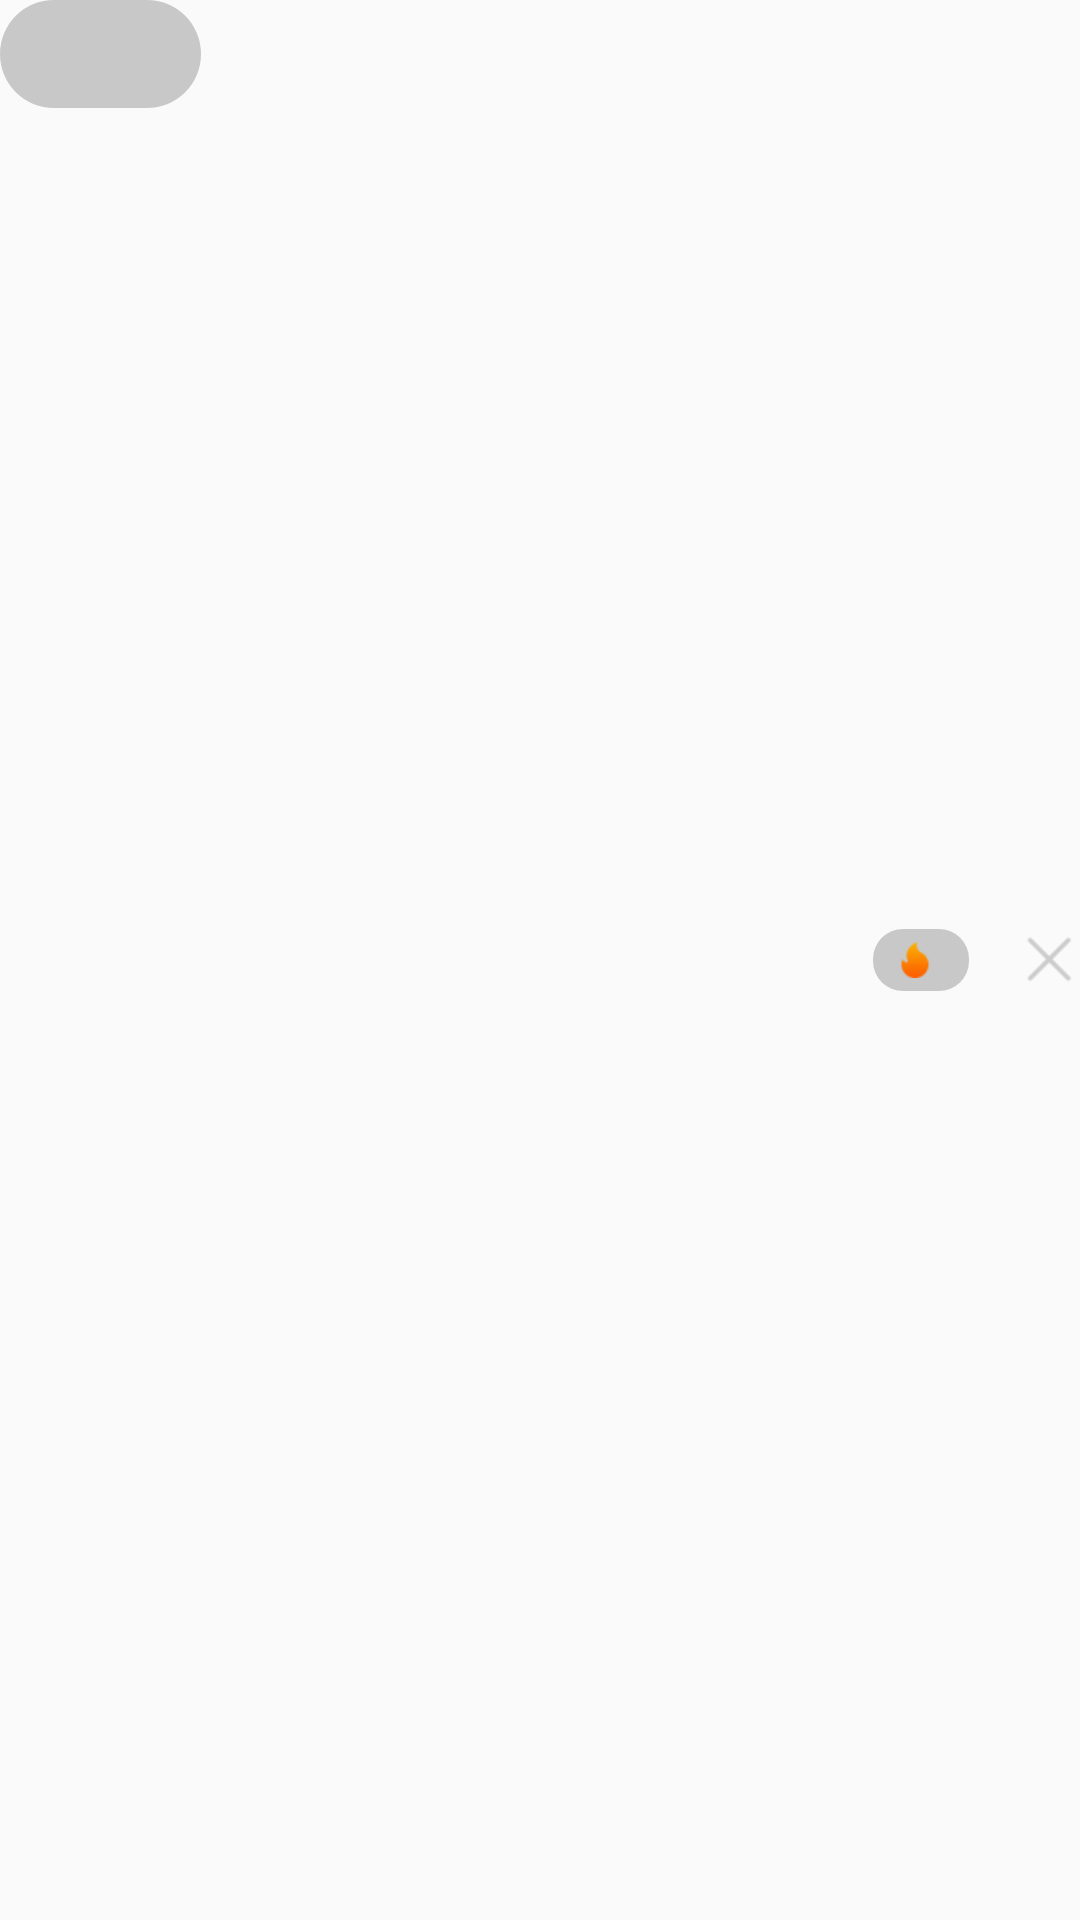

Named icons in this screenshot (1080×1920) and their centers, [x,y]:
close: [1049,959]
hot: [915,960]
